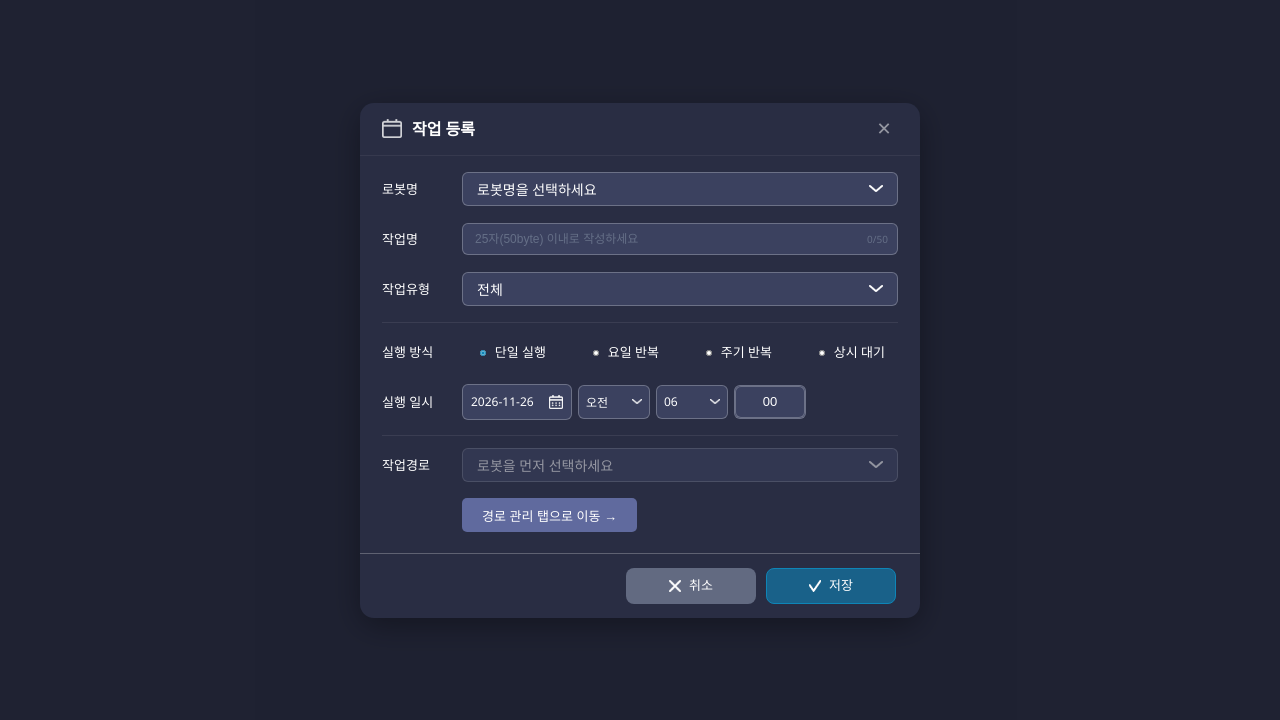
Test case: 작업 등록 › 상시 대기 — 응대 방식 › '단순 동작'을 고른 뒤 호출 방식을 버튼으로 바꾸면 단발 응대로 돌아간다
Click the text "상시 대기".
click(859, 352)  # box [834,342,885,361]
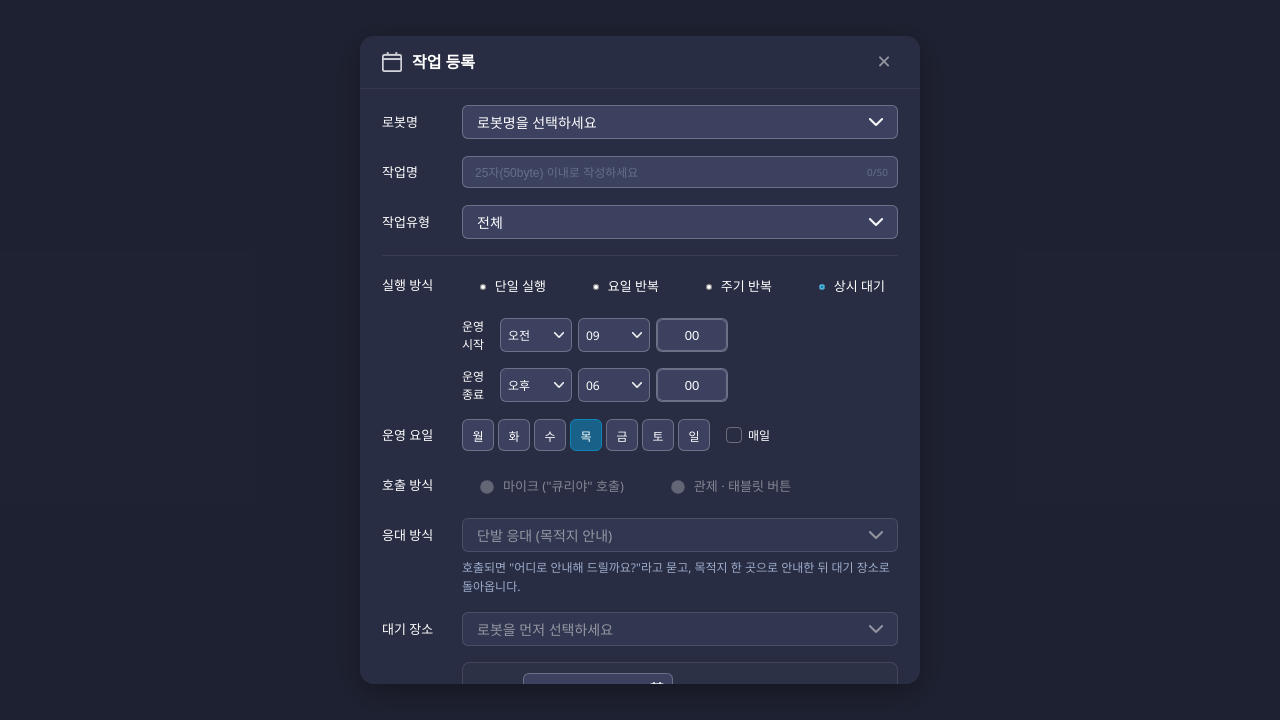
Click the text "로봇명을 선택하세요".
click(537, 122)  # box [477,113,597,132]
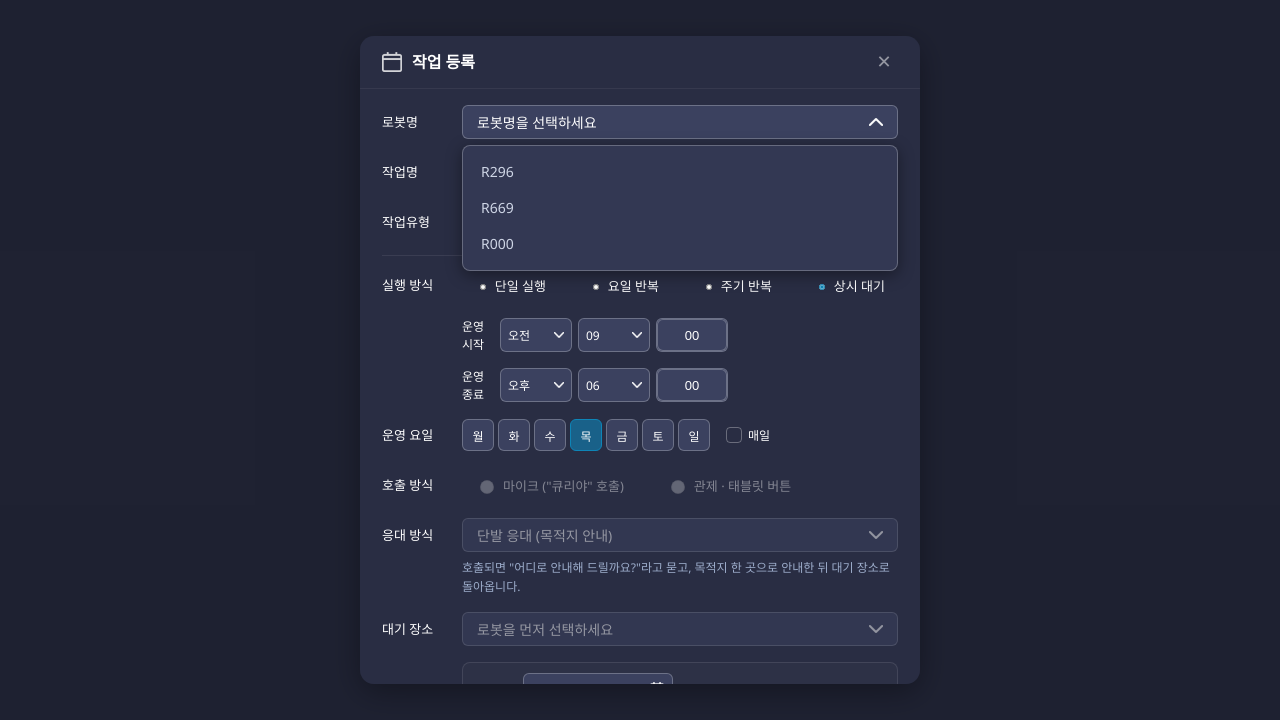
Click the option "R296".
click(497, 172)  # box [481,162,514,181]
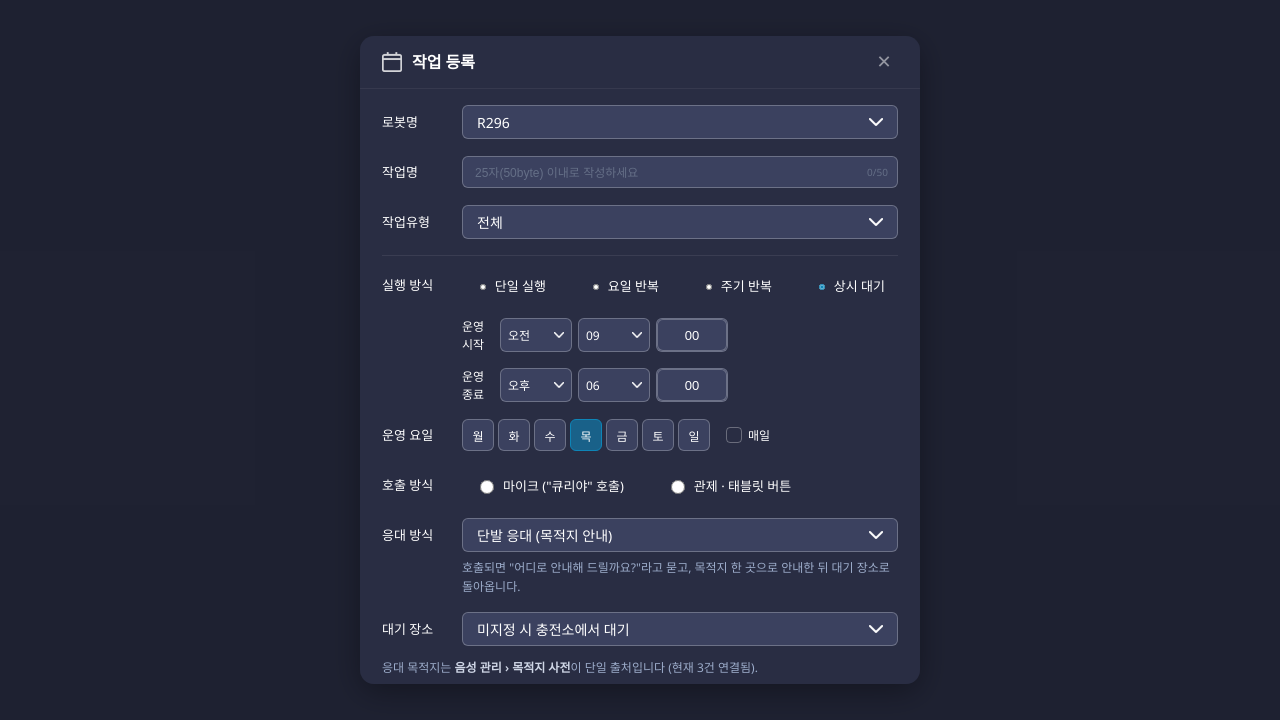
Click the text "단발 응대 (목적지 안내)".
click(545, 536)  # box [477,526,612,545]
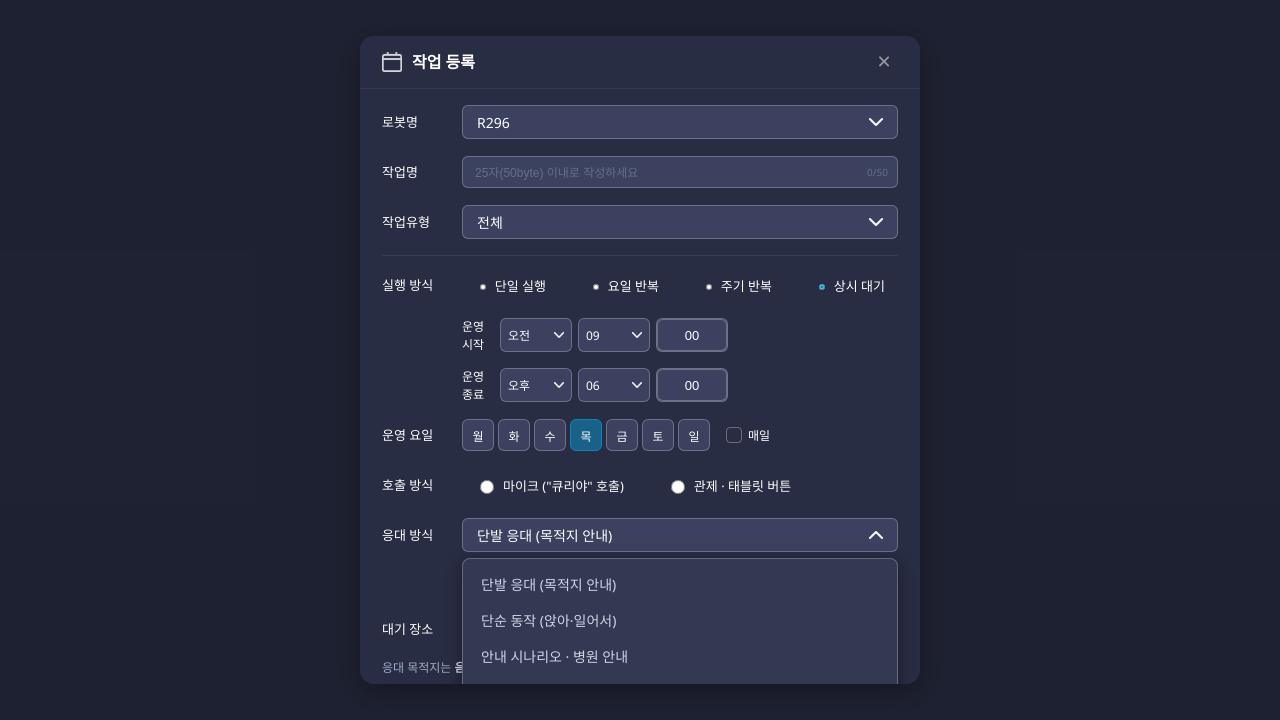
Click the option "단순 동작 (앉아·일어서)".
click(549, 620)  # box [481,611,616,630]
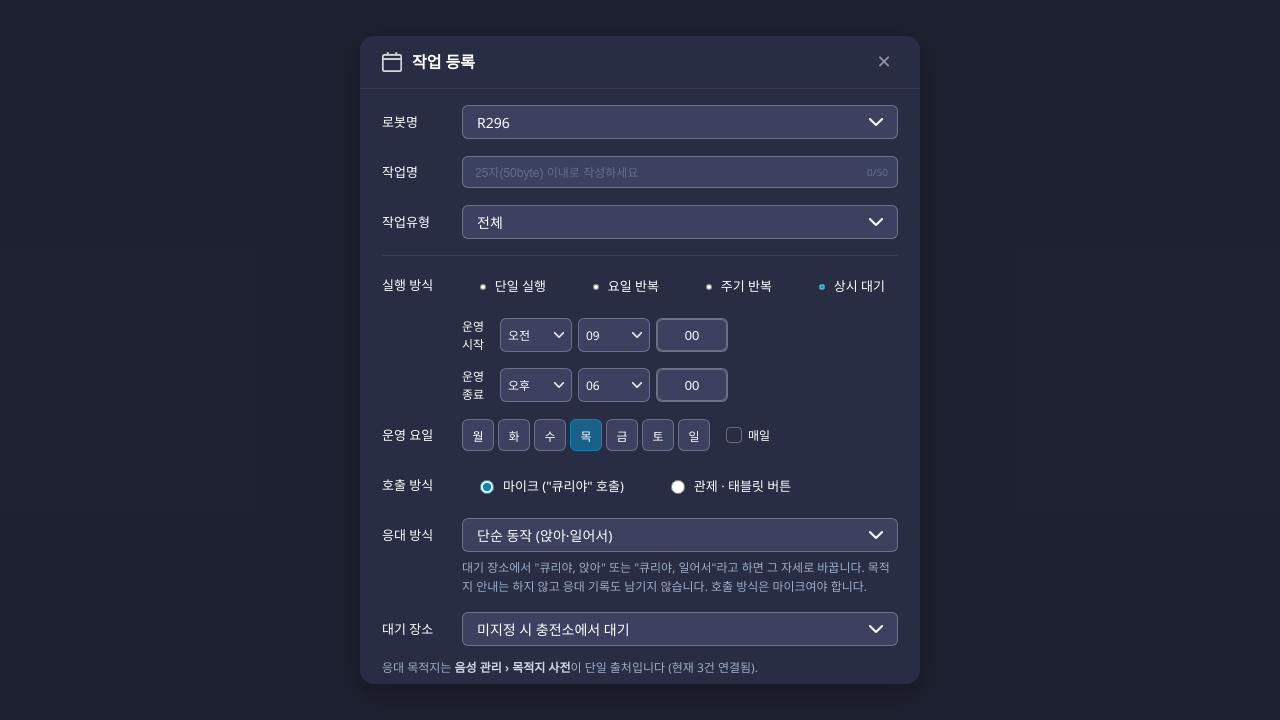
Click the text "관제 · 태블릿 버튼".
click(743, 485)  # box [694,476,791,494]
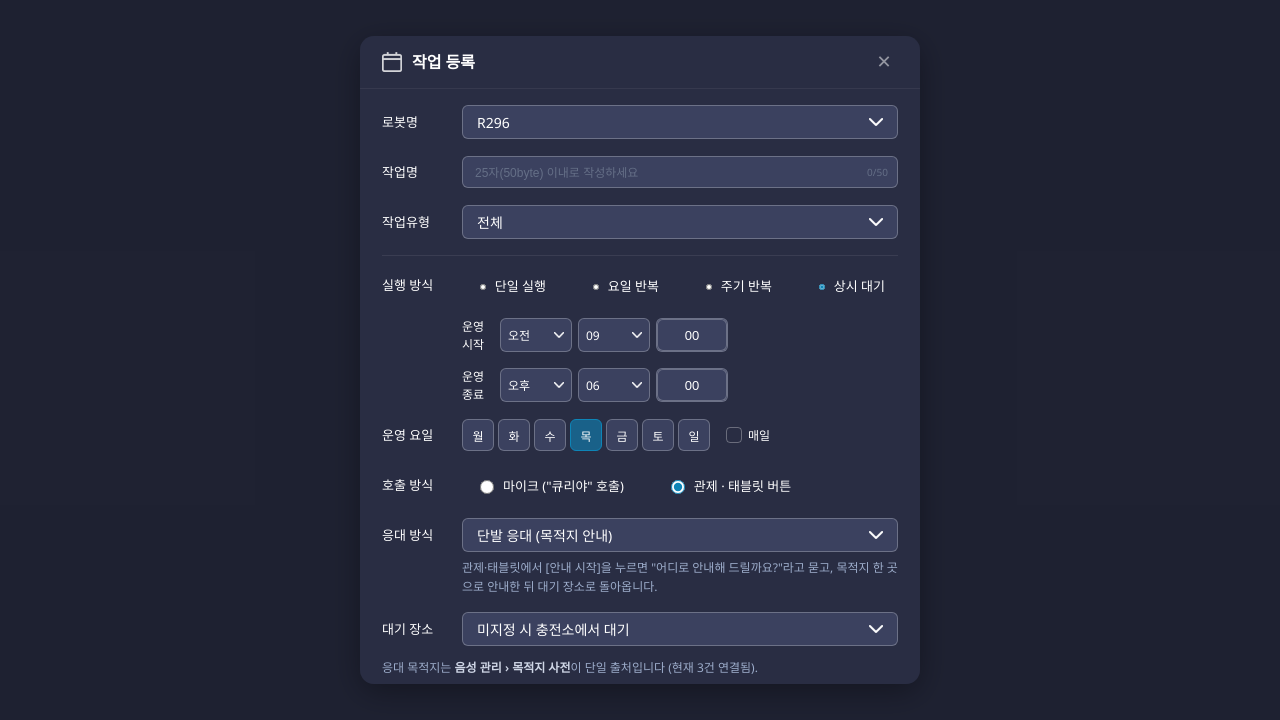
Now the text "단순 동작 (앉아·일어서)" is gone
Now the text "단발 응대 (목적지 안내)" is shown, box [477,526,612,545]
